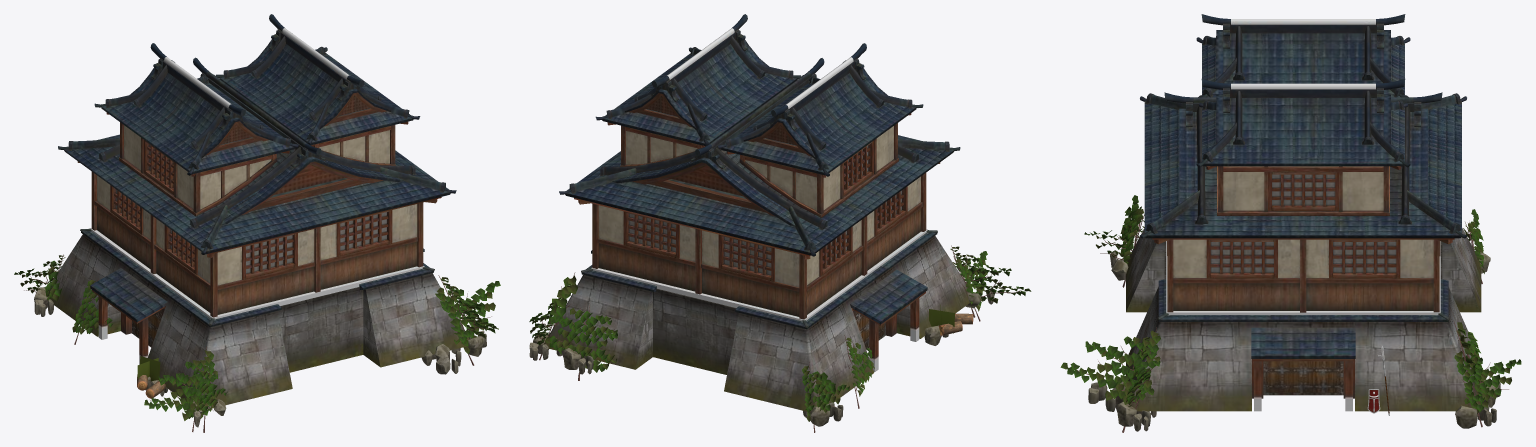
The model's file is 112-citadelcenter.glb.
3 renders of one model, left to right at view 1: azimuth 30°, elevation 25°; view 2: azimuth 150°, elevation 25°; view 3: azimuth 270°, elevation 25°, orthographic. The views are drawn at different scales.
Bounding box in the file's own units: 13.28 × 9.84 × 12.98.
8 materials, 8 textured.
